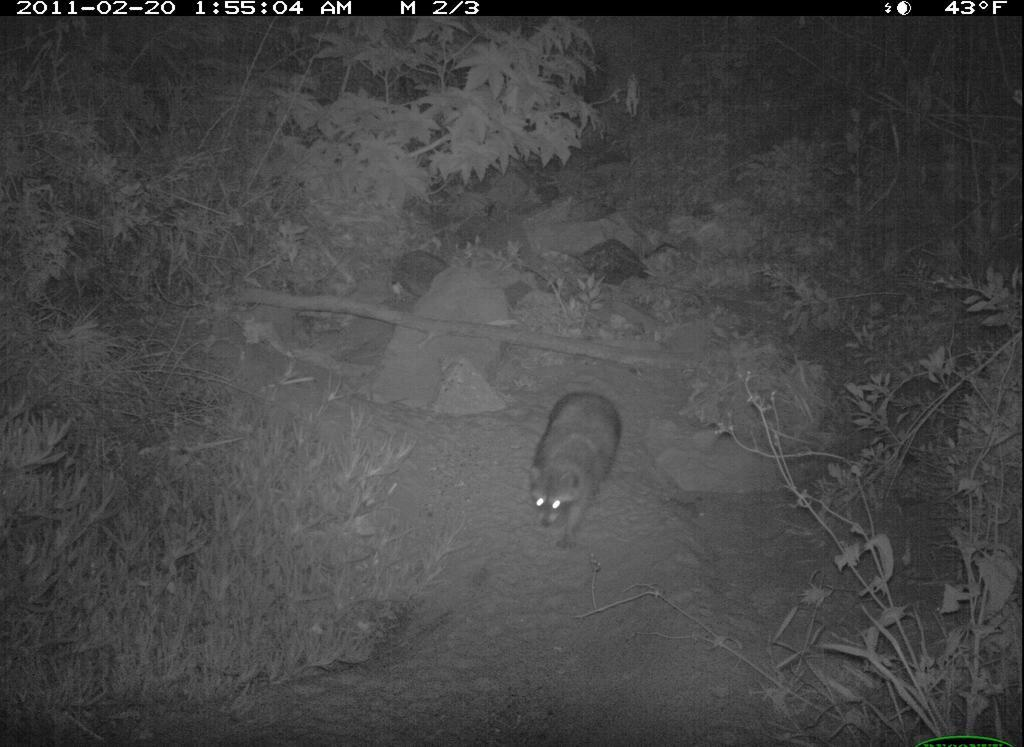raccoon: (509, 377, 634, 548)
